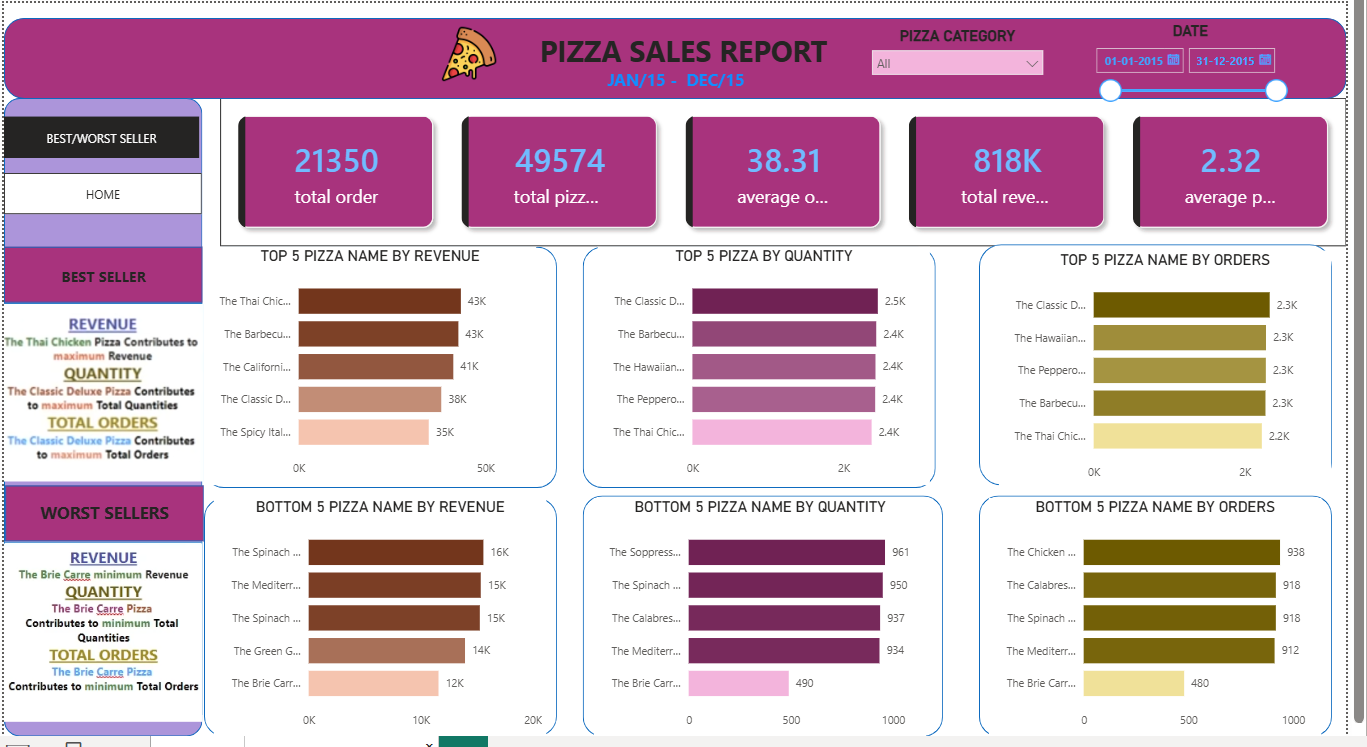

Layout of this report page (visuals, bound fields, positions):
{"tool":"powerbi","page":{"name":"BEST/WORST SELLER","canvas":[1500,820],"ordinal":1},"visuals":[{"type":"cardVisual","fields":{"Data":["pizza_sales.total_order","pizza_sales.total pizza sold","pizza_sales.average_ordder_value","pizza_sales.total_revenue","pizza_sales.average_pizza_per_order"]},"box":[241.6,106.8,1258.8,166],"z":0},{"type":"shape","box":[0,16.4,1500.3,90.4],"z":1000},{"type":"textbox","box":[470,26.3,580.1,60.8],"z":2000},{"type":"textbox","box":[644.2,69,213.6,37.8],"z":3000},{"type":"image","box":[470,26.3,100.2,60.8],"z":4000},{"type":"shape","box":[223.5,553.8,394.4,266.2],"z":7000},{"type":"shape","box":[647.5,550.5,402.6,269.5],"z":8000},{"type":"shape","box":[1089.5,550.5,394.4,269.5],"z":9000},{"type":"shape","box":[0,106.7,221.7,713.3],"z":13000},{"type":"shape","box":[0,272.8,221.8,62.4],"z":14000},{"type":"shape","box":[0,335.2,221.8,187.3],"z":15000},{"type":"shape","box":[1.6,539,221.8,62.4],"z":16000},{"type":"shape","box":[0,601.4,221.8,193.9],"z":17000},{"type":"textbox","box":[1.6,289.2,220.2,32.9],"z":18000},{"type":"textbox","box":[1.6,552.1,221.8,36.2],"z":19000},{"type":"slicer","title":"PIZZA CATEGORY","fields":{"Values":["pizza_sales.pizza_category"]},"box":[959.7,26.3,212,80.5],"z":22000},{"type":"slicer","title":"DATE","fields":{"Values":["pizza_sales.order_date"]},"box":[1207.8,21.4,235,105.2],"z":23000},{"type":"shape","box":[1089.5,269.5,394.4,269.5],"z":23001},{"type":"shape","box":[647.5,272.8,394.4,269.5],"z":23002},{"type":"shape","box":[223.5,272.8,394.4,269.5],"z":23003},{"type":"barChart","title":"TOP 5 PIZZA NAME BY REVENUE","fields":{"Category":["pizza_sales.pizza_name"],"Y":["pizza_sales.total revenue"]},"box":[223.5,272.8,371.4,266.2],"z":23004},{"type":"barChart","title":"BOTTOM 5 PIZZA NAME BY REVENUE","fields":{"Category":["pizza_sales.pizza_name"],"Y":["pizza_sales.total revenue"]},"box":[235,553.8,371.4,266.2],"z":23005},{"type":"barChart","title":"TOP 5 PIZZA BY QUANTITY","fields":{"Category":["pizza_sales.pizza_name"],"Y":["pizza_sales.total pizza sold"]},"box":[663.9,272.8,371.4,266.2],"z":23006},{"type":"barChart","title":"BOTTOM 5 PIZZA NAME BY QUANTITY","fields":{"Category":["pizza_sales.pizza_name"],"Y":["pizza_sales.total pizza sold"]},"box":[659,553.8,371.4,266.2],"z":23007},{"type":"barChart","title":"TOP 5 PIZZA NAME BY ORDERS","fields":{"Category":["pizza_sales.pizza_name"],"Y":["pizza_sales.total order"]},"box":[1112.5,276.1,371.4,266.2],"z":23008},{"type":"barChart","title":"BOTTOM 5 PIZZA NAME BY ORDERS","fields":{"Category":["pizza_sales.pizza_name"],"Y":["pizza_sales.total order"]},"box":[1101,553.8,371.4,266.2],"z":23009},{"type":"image","box":[0,300,223.3,270],"z":23010},{"type":"image","box":[0,588.3,221.7,231.7],"z":23012},{"type":"pageNavigator","box":[0,190,221.7,46.7],"z":23013},{"type":"pageNavigator","box":[0,126.7,218.3,46.7],"z":23014}]}

Visuals, with their boxes in screenshot pixels (x1, y1, x2, y2), scaled from the page's 1500x820 canvas onto the 1367x747 screenshot:
cardVisual - pizza_sales.total_order x pizza_sales.total pizza sold: (left=220, top=97, right=1366, bottom=249)
shape: (left=0, top=15, right=1366, bottom=97)
textbox: (left=428, top=24, right=957, bottom=79)
textbox: (left=587, top=63, right=782, bottom=97)
image: (left=428, top=24, right=520, bottom=79)
shape: (left=204, top=504, right=563, bottom=746)
shape: (left=590, top=501, right=957, bottom=746)
shape: (left=993, top=501, right=1352, bottom=746)
shape: (left=0, top=97, right=202, bottom=746)
shape: (left=0, top=249, right=202, bottom=305)
shape: (left=0, top=305, right=202, bottom=476)
shape: (left=1, top=491, right=204, bottom=548)
shape: (left=0, top=548, right=202, bottom=724)
textbox: (left=1, top=263, right=202, bottom=293)
textbox: (left=1, top=503, right=204, bottom=536)
"PIZZA CATEGORY" slicer: (left=875, top=24, right=1068, bottom=97)
"DATE" slicer: (left=1101, top=19, right=1315, bottom=115)
shape: (left=993, top=246, right=1352, bottom=491)
shape: (left=590, top=249, right=950, bottom=494)
shape: (left=204, top=249, right=563, bottom=494)
"TOP 5 PIZZA NAME BY REVENUE" barChart: (left=204, top=249, right=542, bottom=491)
"BOTTOM 5 PIZZA NAME BY REVENUE" barChart: (left=214, top=504, right=553, bottom=746)
"TOP 5 PIZZA BY QUANTITY" barChart: (left=605, top=249, right=944, bottom=491)
"BOTTOM 5 PIZZA NAME BY QUANTITY" barChart: (left=601, top=504, right=939, bottom=746)
"TOP 5 PIZZA NAME BY ORDERS" barChart: (left=1014, top=252, right=1352, bottom=494)
"BOTTOM 5 PIZZA NAME BY ORDERS" barChart: (left=1003, top=504, right=1342, bottom=746)
image: (left=0, top=273, right=204, bottom=519)
image: (left=0, top=536, right=202, bottom=746)
pageNavigator: (left=0, top=173, right=202, bottom=216)
pageNavigator: (left=0, top=115, right=199, bottom=158)
